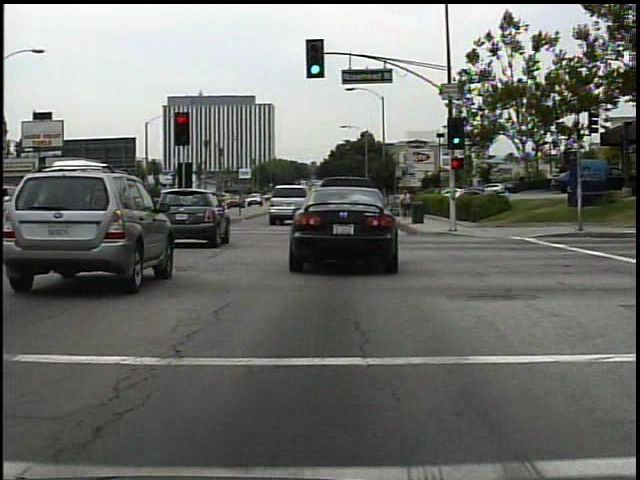person: (399, 187, 413, 222)
